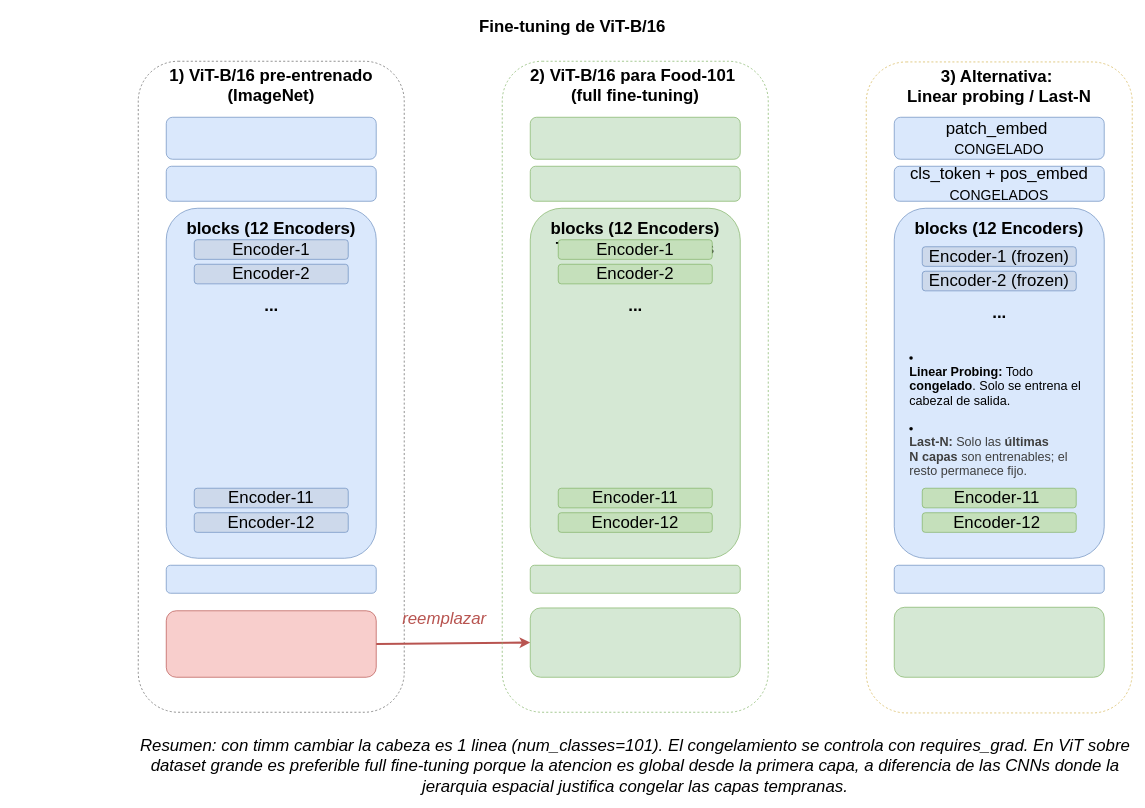
This 1145x808 diagram has some shape labels left out. The shapes that lost their labels are listed below. From the top down, each one's centre as x and y in pixels, then its label:
At point 271,138: "patch_embed Conv2d(3, 768, k=16, s=16)".
At point 635,138: "patch_embed (pesos pre-entrenados)".
At point 271,183: "cls_token + pos_embed".
At point 635,183: "cls_token + pos_embed (pesos pre-entrenados)".
At point 271,579: "norm (LayerNorm)".
At point 635,579: "norm".
At point 999,579: "norm (frozen)".
At point 271,643: "head Linear(768 -> 1000) [ImageNet-1k]".
At point 635,642: "head NUEVA Linear(768 -> 101) num_classes=101".
At point 999,642: "head NUEVA Linear(768 -> 101) UNICA entrenable".
